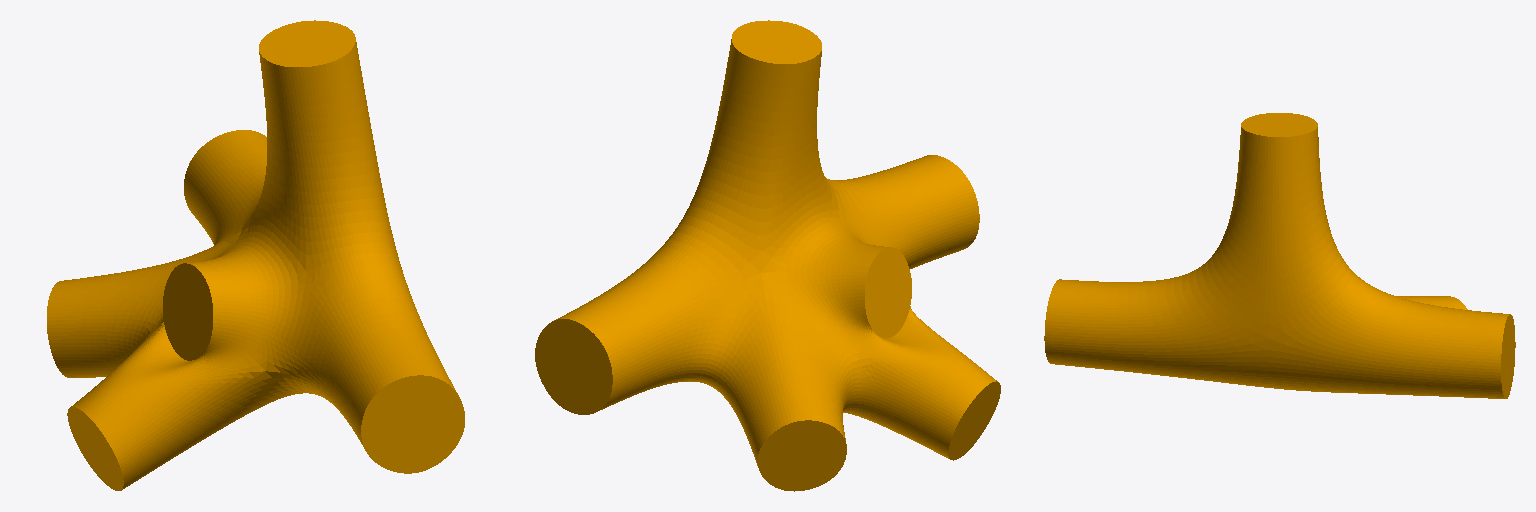
robot.urdf — object:
<robot name="object">
  <link name="object">
    <visual>
      <origin xyz="0 0 0"/>
      <geometry>
        <mesh filename="visual.obj" scale="1 1 1"/>
      </geometry>
    </visual>
    <collision>
      <origin xyz="0 0 0"/>
      <geometry>
        <mesh filename="collision.obj" scale="1 1 1"/>
      </geometry>
    </collision>
    <inertial>
      <mass value="0.05"/>
      <inertia ixx="0.00023251402147531368" iyy="0.000139405406821338" izz="0.00022442926132439472" ixy="-1.1801768952764677e-05" ixz="-3.001425935772085e-05" iyz="1.330747987218452e-05"/>
    </inertial>
  </link>
</robot>

--- What the picture shows (computed from the rendered views, not written in the file) ---
The picture shows the robot from 3 angles, left to right: view 1: azimuth 30°, elevation 25°; view 2: azimuth 150°, elevation 25°; view 3: azimuth 270°, elevation 25°; orthographic projection.
Robot: object — 1 links, 0 joints (none); root link object; default pose: every joint at zero.
Visible links, largest first — view 1: object; view 2: object; view 3: object.
Link boxes in pixels (<box>): object: <box>47,20,464,490</box>; object: <box>535,20,1000,491</box>; object: <box>1044,113,1515,398</box>.
Bounding box of the posed robot: 0.1889 × 0.2842 × 0.21 m (x, y, z).
Meshes: 1 distinct files referenced, 1 mesh visuals loaded (1 OBJ).
